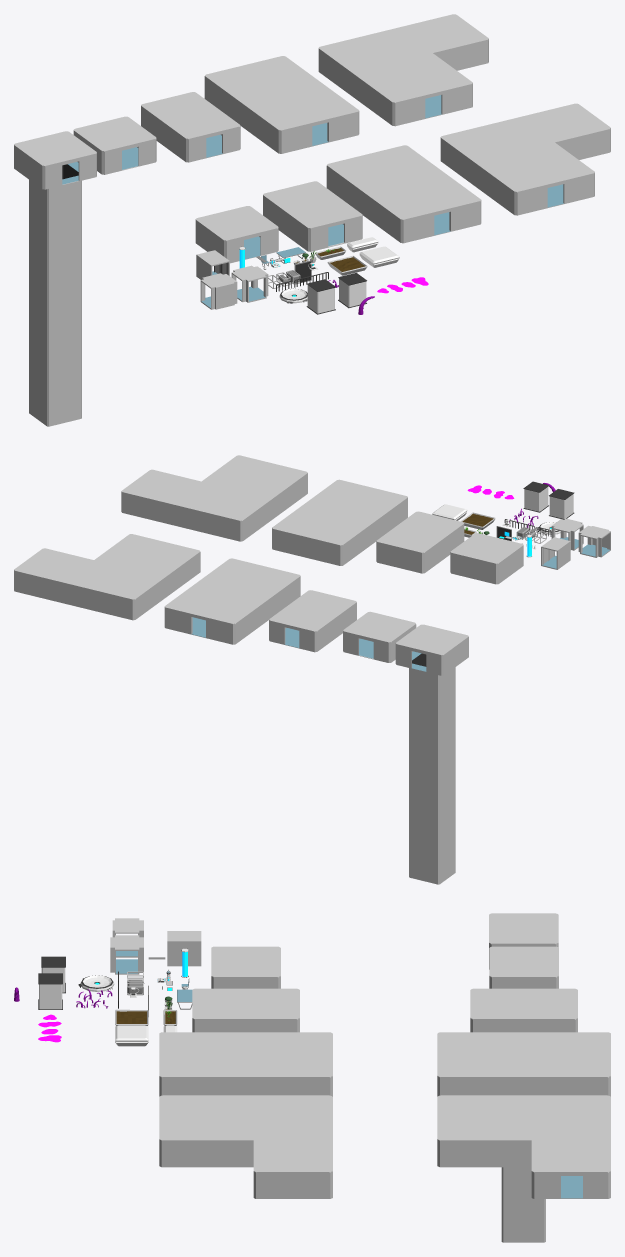
The model's file is Low-Poly Laboratory.fbx.
3 renders of one model, top to bottom at view 1: azimuth 30°, elevation 25°; view 2: azimuth 150°, elevation 25°; view 3: azimuth 270°, elevation 25°, orthographic. The views are drawn at different scales.
Parts seen in each view (by area): view 1: Lab_Room_Pit, Lab_Room_Single_4, Lab_Room_Double_4, Lab_Room_Double_3, Lab_Room_Single_3, Lab_Room_Double_2, Lab_Room_Single_2, Lab_Room_Single_1, Lab_Room_Double_1, Corridor_3_Way, Corridor_2_Way, Glass_Box_W_Tentacle (+3 smaller); view 2: Lab_Room_Pit, Lab_Room_Single_4, Lab_Room_Double_4, Lab_Room_Double_3, Lab_Room_Single_3, Lab_Room_Single_2, Lab_Room_Double_2, Lab_Room_Single_1, Lab_Room_Double_1, Corridor_3_Way, Corridor, Glass_Box (+2 smaller); view 3: Lab_Room_Single_4, Lab_Room_Double_4, Lab_Room_Double_3, Lab_Room_Single_3, Lab_Room_Pit, Lab_Room_Single_2, Lab_Room_Double_2, Lab_Room_Single_1, Lab_Room_Double_1, Corridor, Corridor_2_Way, Glass_Box (+5 smaller).
Boxes of the visible parts, x1=… form: Lab_Room_Pit: x1=14, y1=131, x2=96, y2=426; Lab_Room_Single_4: x1=440, y1=103, x2=610, y2=215; Lab_Room_Double_4: x1=318, y1=14, x2=488, y2=126; Lab_Room_Double_3: x1=204, y1=56, x2=359, y2=153; Lab_Room_Single_3: x1=326, y1=145, x2=481, y2=243; Lab_Room_Double_2: x1=141, y1=92, x2=240, y2=162; Lab_Room_Single_2: x1=263, y1=181, x2=362, y2=251; Lab_Room_Single_1: x1=195, y1=206, x2=278, y2=263; Lab_Room_Double_1: x1=73, y1=116, x2=156, y2=174; Corridor_3_Way: x1=200, y1=273, x2=237, y2=309; Corridor_2_Way: x1=231, y1=265, x2=268, y2=302; Glass_Box_W_Tentacle: x1=306, y1=279, x2=335, y2=314; Lab_Room_Pit: x1=395, y1=624, x2=468, y2=884; Lab_Room_Single_4: x1=121, y1=455, x2=307, y2=541; Lab_Room_Double_4: x1=14, y1=534, x2=200, y2=620; Lab_Room_Double_3: x1=164, y1=558, x2=300, y2=644; Lab_Room_Single_3: x1=272, y1=479, x2=407, y2=565; Lab_Room_Single_2: x1=376, y1=511, x2=464, y2=573; Lab_Room_Double_2: x1=269, y1=590, x2=356, y2=652; Lab_Room_Single_1: x1=450, y1=533, x2=523, y2=584; Lab_Room_Double_1: x1=343, y1=611, x2=416, y2=662; Corridor_3_Way: x1=578, y1=525, x2=610, y2=557; Corridor: x1=541, y1=537, x2=570, y2=569; Glass_Box: x1=523, y1=481, x2=548, y2=512; Lab_Room_Single_4: x1=159, y1=1095, x2=332, y2=1198; Lab_Room_Double_4: x1=437, y1=1095, x2=610, y2=1198; Lab_Room_Double_3: x1=437, y1=1032, x2=610, y2=1096; Lab_Room_Single_3: x1=159, y1=1032, x2=332, y2=1096; Lab_Room_Pit: x1=489, y1=913, x2=558, y2=1242; Lab_Room_Single_2: x1=192, y1=988, x2=299, y2=1032; Lab_Room_Double_2: x1=470, y1=988, x2=577, y2=1032; Lab_Room_Single_1: x1=211, y1=946, x2=280, y2=988; Lab_Room_Double_1: x1=489, y1=946, x2=558, y2=988; Corridor: x1=167, y1=931, x2=201, y2=966; Corridor_2_Way: x1=110, y1=935, x2=143, y2=974; Glass_Box: x1=38, y1=973, x2=62, y2=1009.
Size of the model in its own units: 7223 by 3961 by 7041.
